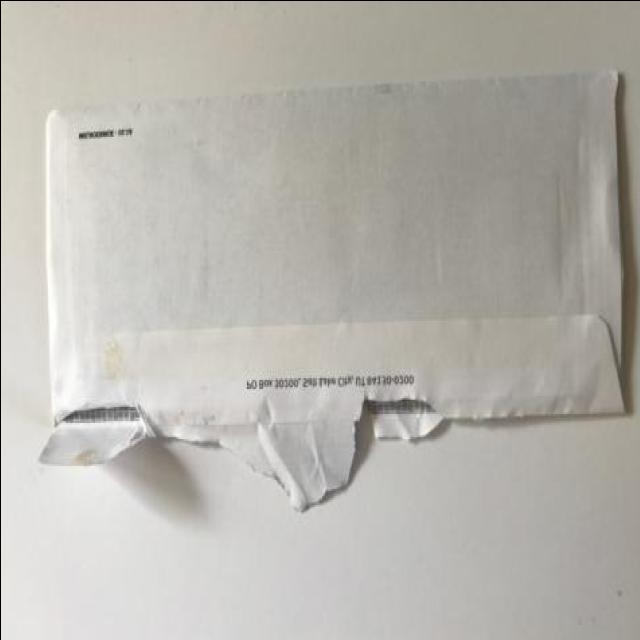kertas: (35, 64, 626, 511)
